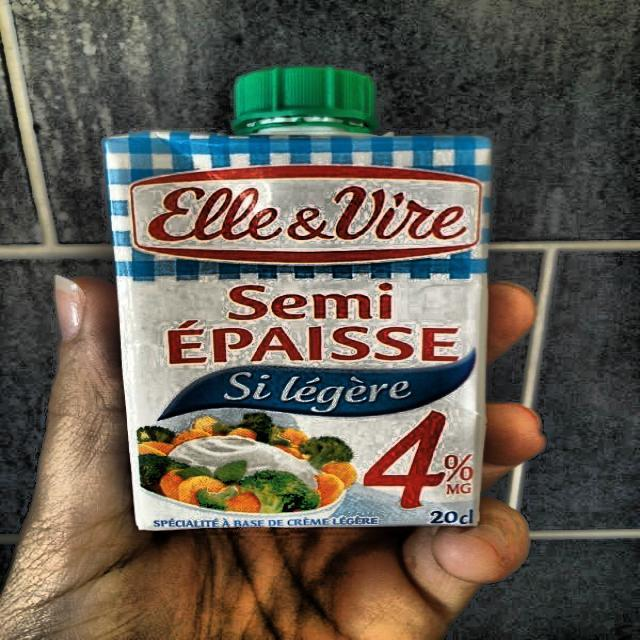cardboard: (102, 128, 492, 531)
